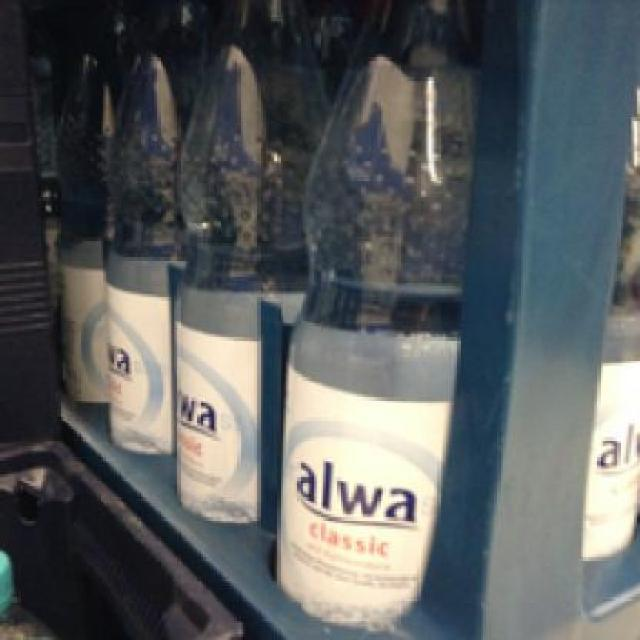Water: (272, 0, 474, 626), (171, 0, 326, 523), (103, 5, 171, 458)
